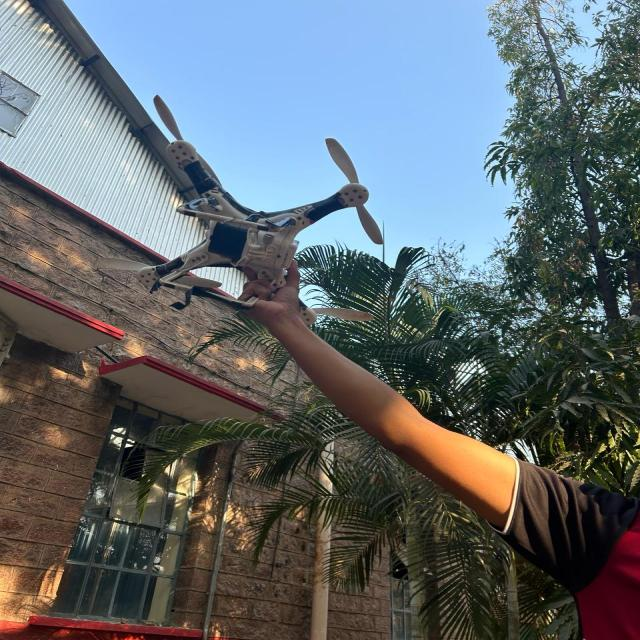drone: (118, 82, 406, 358)
